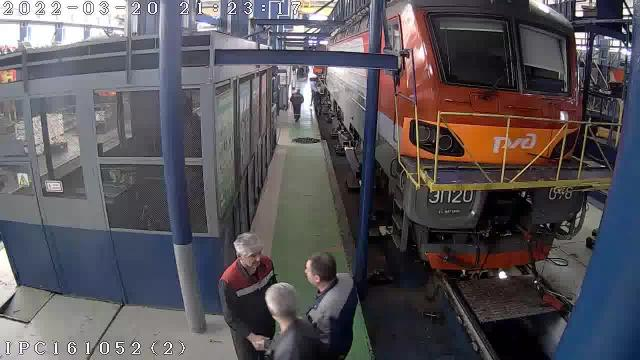person: (218, 233, 276, 360), (305, 253, 357, 358), (265, 283, 326, 359), (290, 89, 304, 116)
train: (376, 0, 586, 271)
